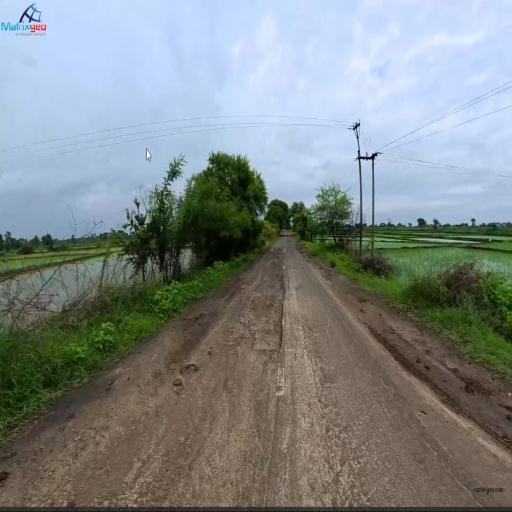ravelling: (230, 341, 364, 491)
